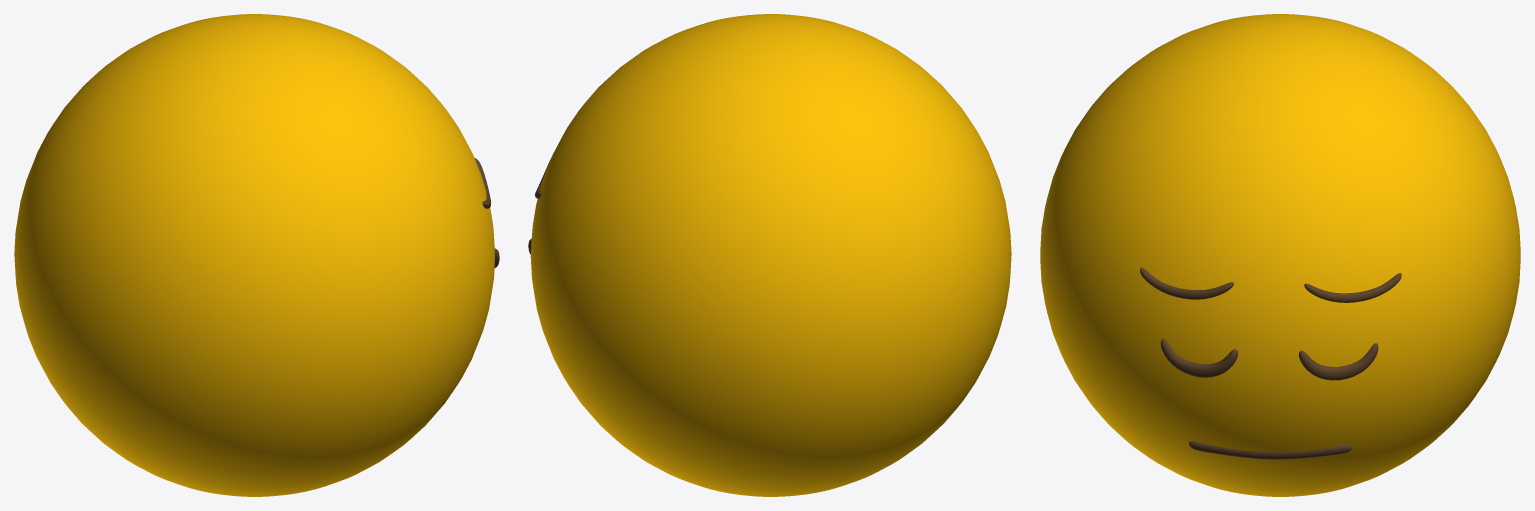
The model's file is smiley3.gltf.
3 views of the same model, side by side, from view 1: azimuth 30°, elevation 25°; view 2: azimuth 150°, elevation 25°; view 3: azimuth 270°, elevation 25° (orthographic).
Visible parts, largest first — view 1: Emoticon 56; view 2: Emoticon 56; view 3: Emoticon 56.
Boxes of the visible parts, box(x1,y1,x2,y2) form: Emoticon 56: box(14, 14, 499, 496); Emoticon 56: box(528, 14, 1011, 496); Emoticon 56: box(1040, 14, 1520, 496).
Size of the model in its own units: 11.15 by 11.18 by 11.05.
Materials: 1 (1 with a texture image).
